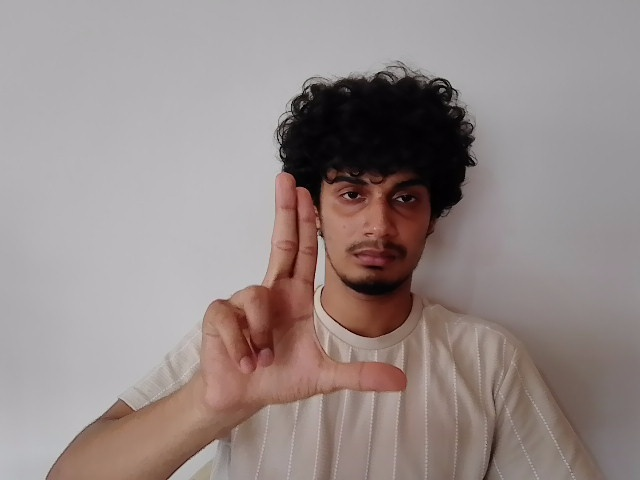no: (199, 177, 412, 417)
